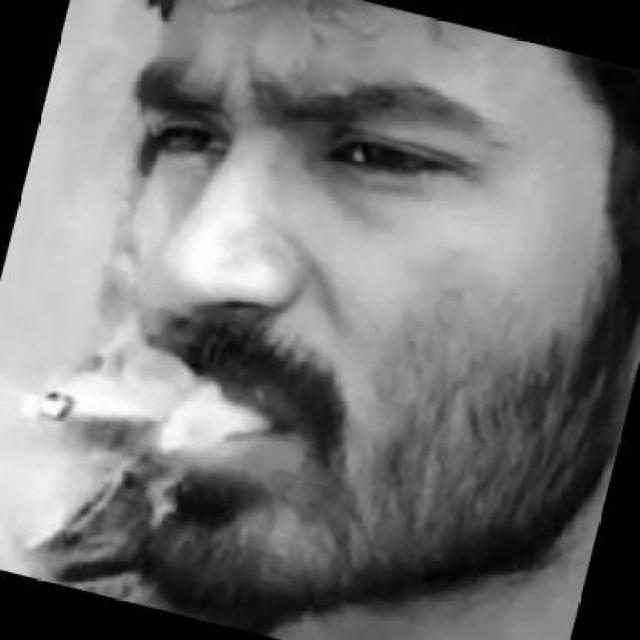smoke: (21, 354, 207, 468)
